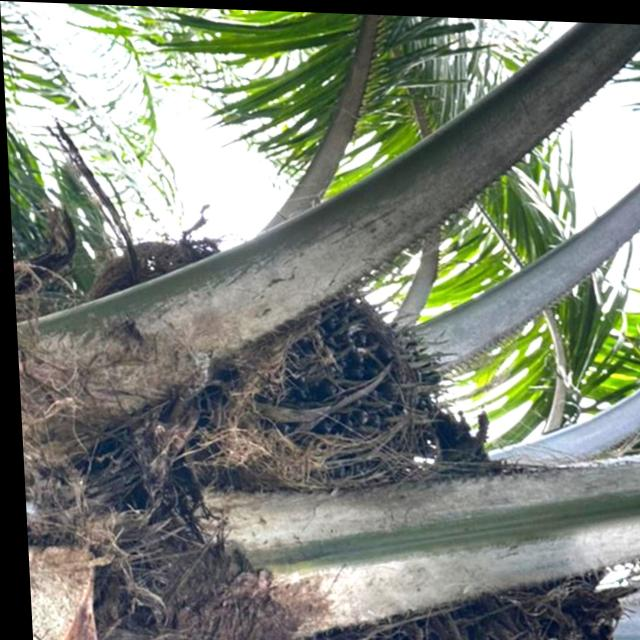almost: (241, 286, 461, 480)
